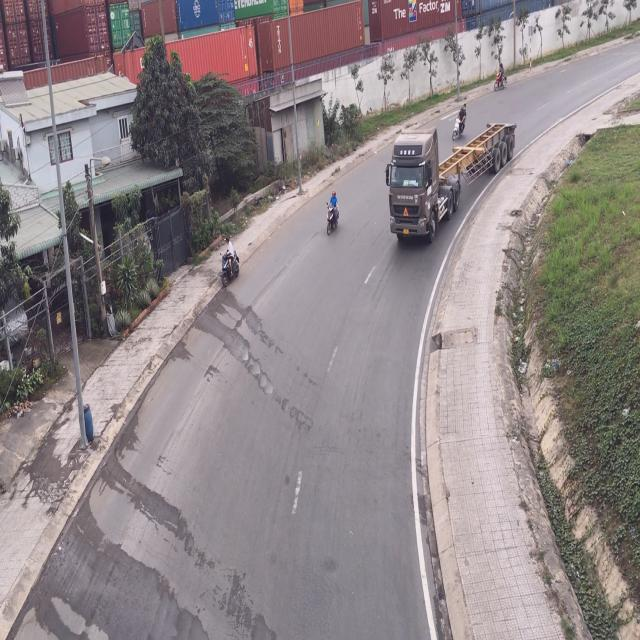motorbike: (221, 239, 242, 289), (324, 191, 340, 239), (452, 104, 466, 142), (493, 60, 507, 92)
truck: (387, 121, 517, 246)
